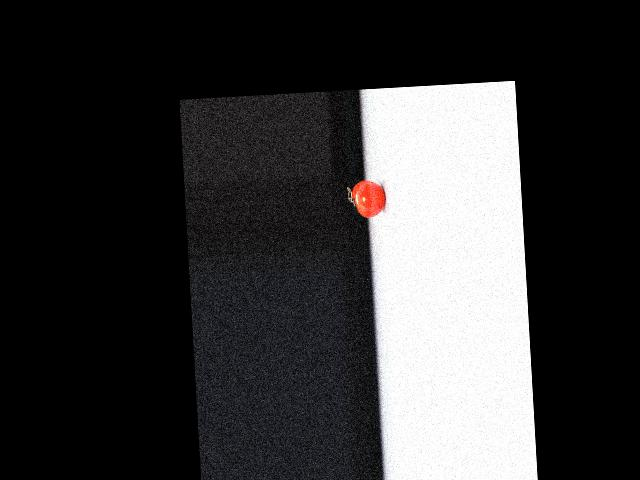tomato: (351, 179, 386, 219)
